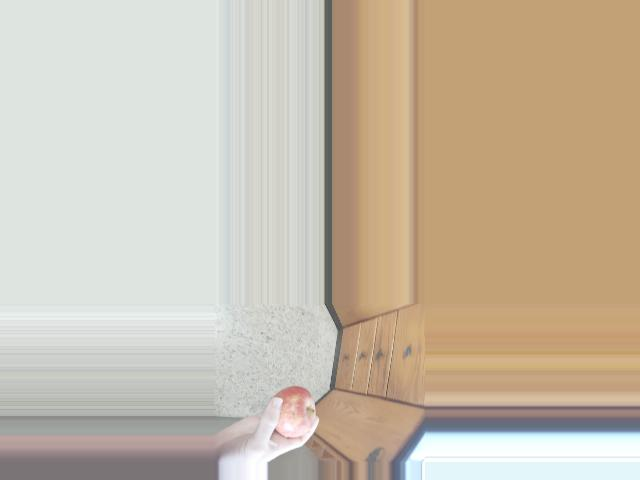apple: (261, 385, 318, 444)
